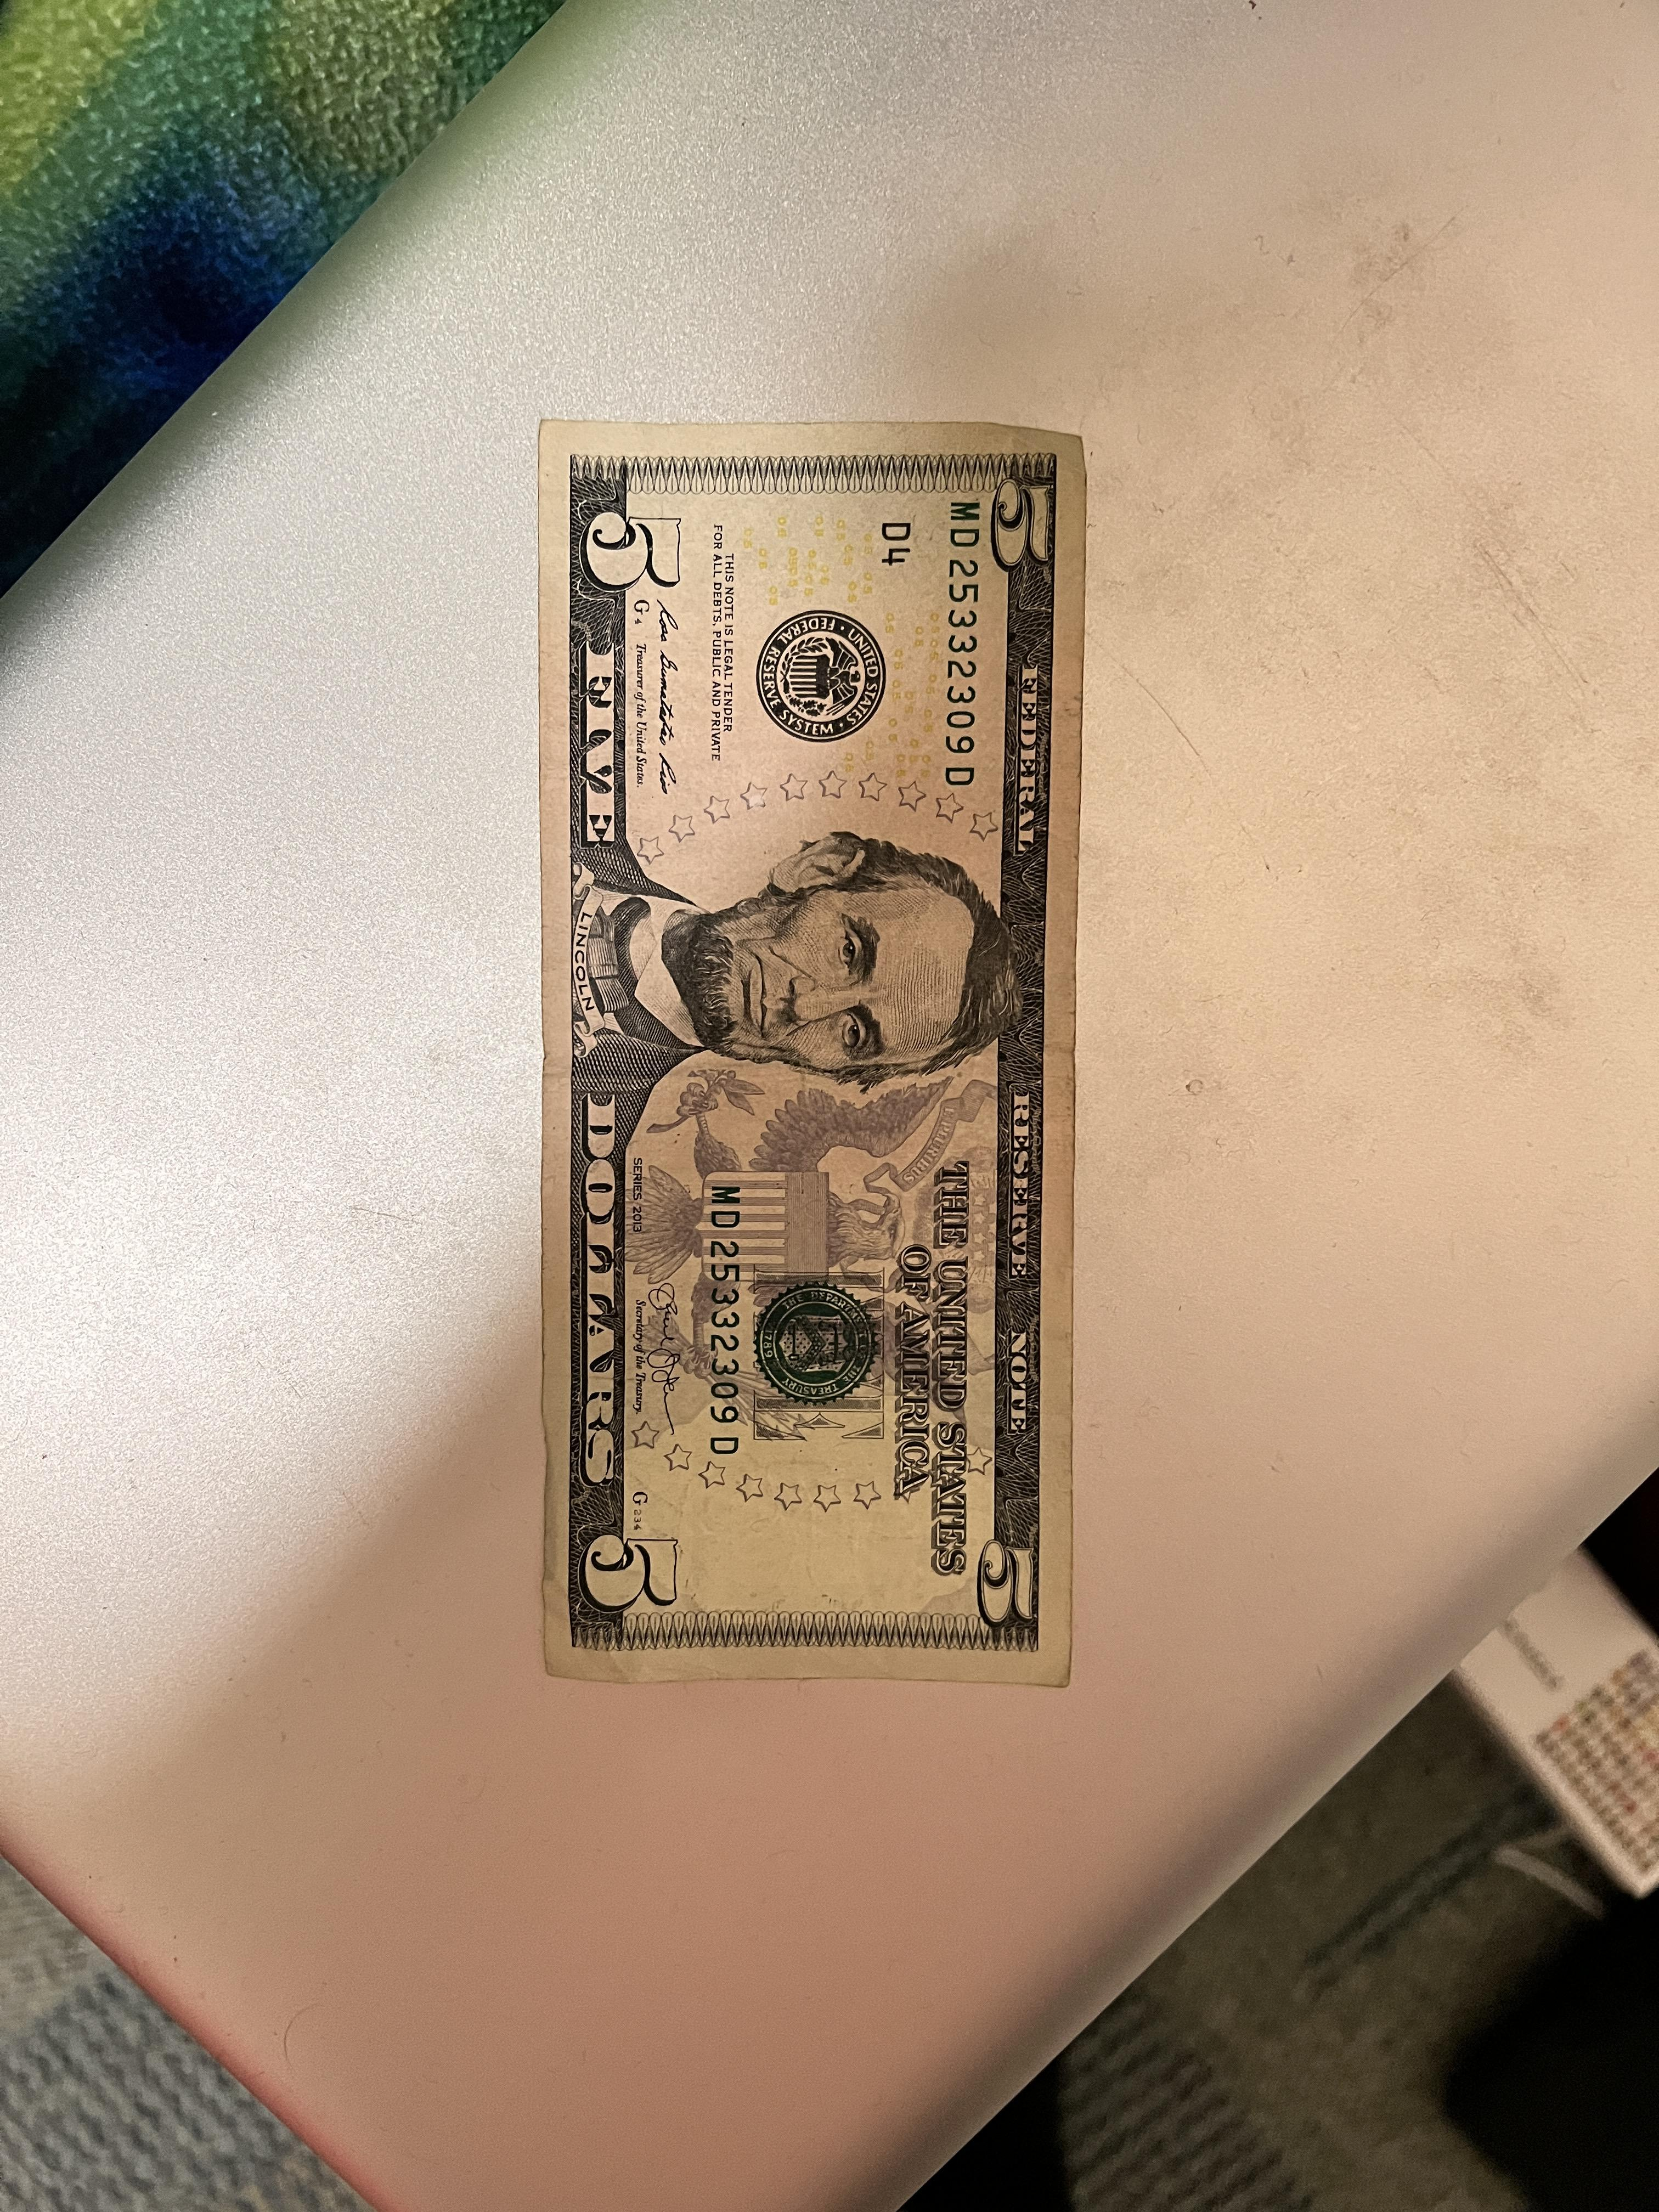FiveBill: (532, 397, 1084, 1698)
